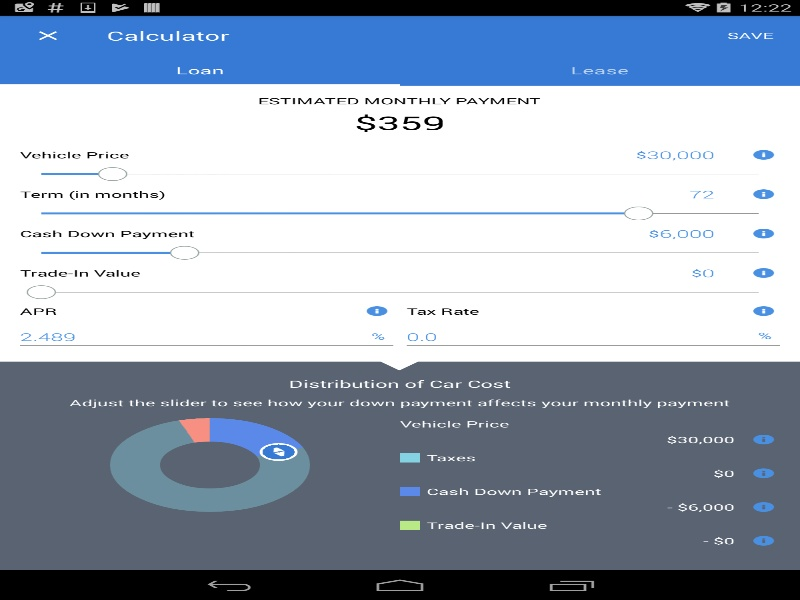Button: (10, 15, 85, 55)
Input: (406, 325, 540, 344), (20, 325, 153, 344), (646, 147, 714, 162), (659, 226, 714, 240), (689, 187, 714, 201), (702, 265, 714, 280)
